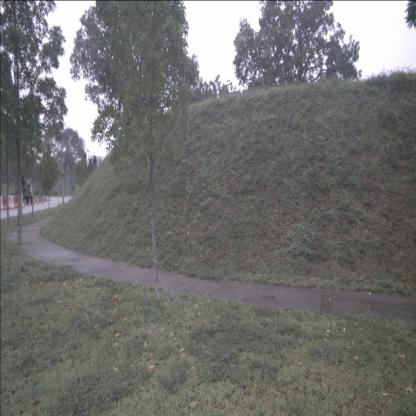barrier: (7, 196, 14, 209), (2, 196, 8, 210), (13, 195, 19, 208), (18, 195, 24, 207), (0, 196, 4, 209)
cone: (28, 198, 31, 206), (41, 198, 44, 204), (24, 198, 26, 206), (37, 198, 39, 205), (33, 198, 35, 205)
